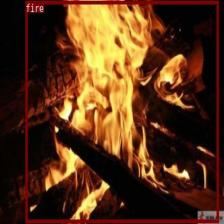fire: (25, 1, 218, 222)
